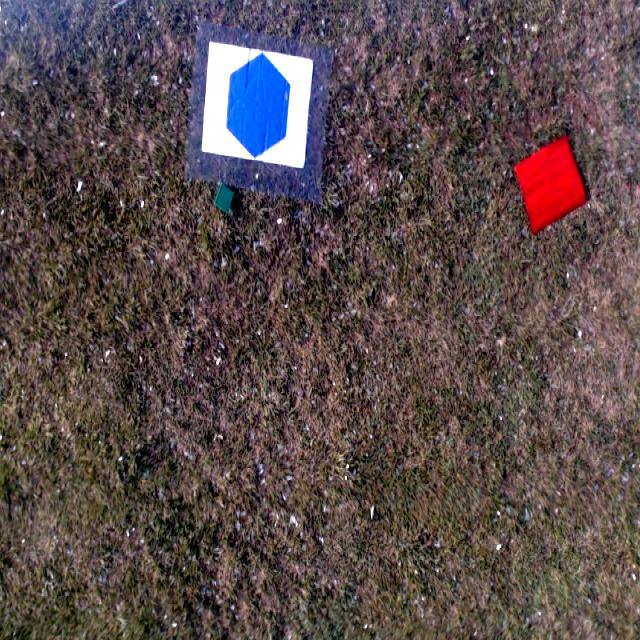blue_hexagon: (226, 56, 292, 158)
red_square: (514, 136, 590, 233)
